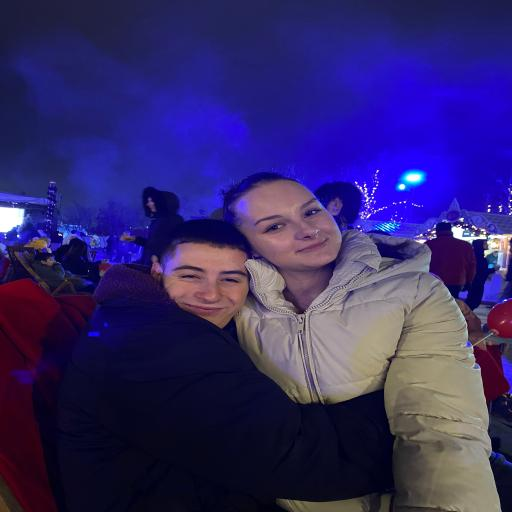marija: (236, 180, 340, 268)
